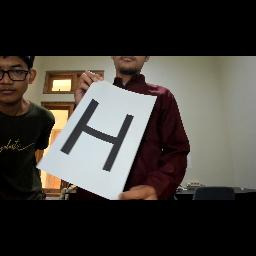h: (60, 96, 136, 172)
